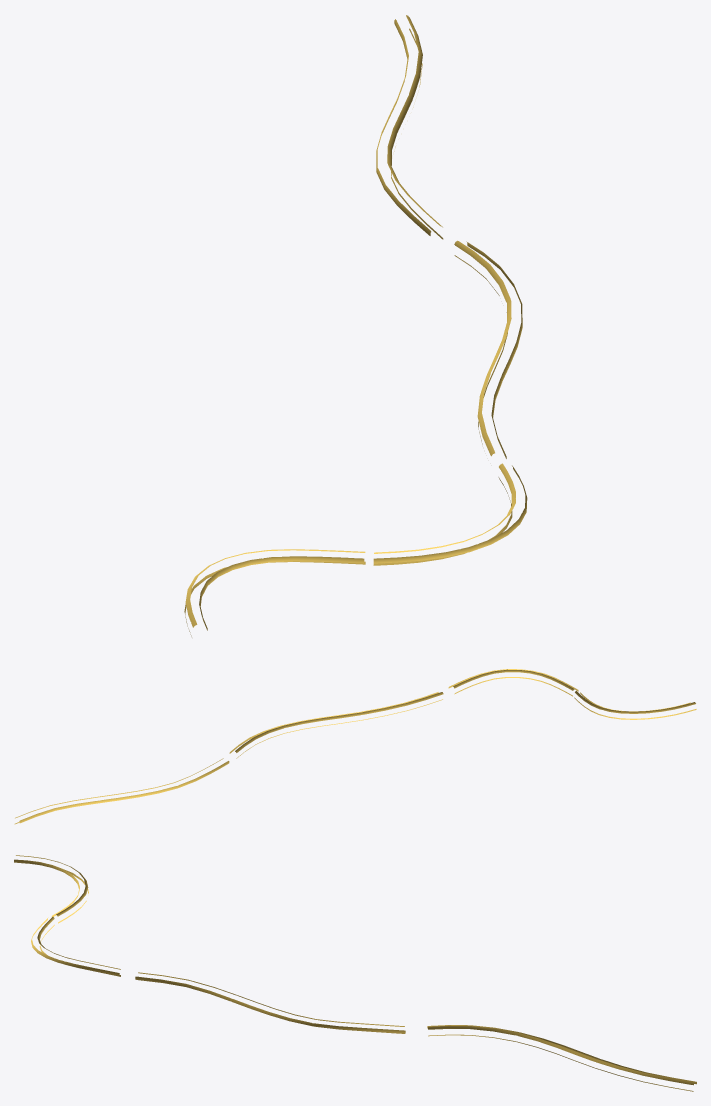
File: left_turret_cables.glb
3 views of the same model, one above another, from view 1: azimuth 30°, elevation 25°; view 2: azimuth 150°, elevation 25°; view 3: azimuth 270°, elevation 25° (orthographic). The views are drawn at different scales.
Visible parts, largest first — view 1: left_turret_cables_0; view 2: left_turret_cables_0; view 3: left_turret_cables_0.
Part boxes in pixels (bbox=[...]): left_turret_cables_0: bbox=[184, 15, 527, 636]; left_turret_cables_0: bbox=[14, 669, 696, 824]; left_turret_cables_0: bbox=[14, 855, 696, 1091].
Bounding box in the file's own units: 180 × 4.63 × 228.
1 material, 1 textured.
